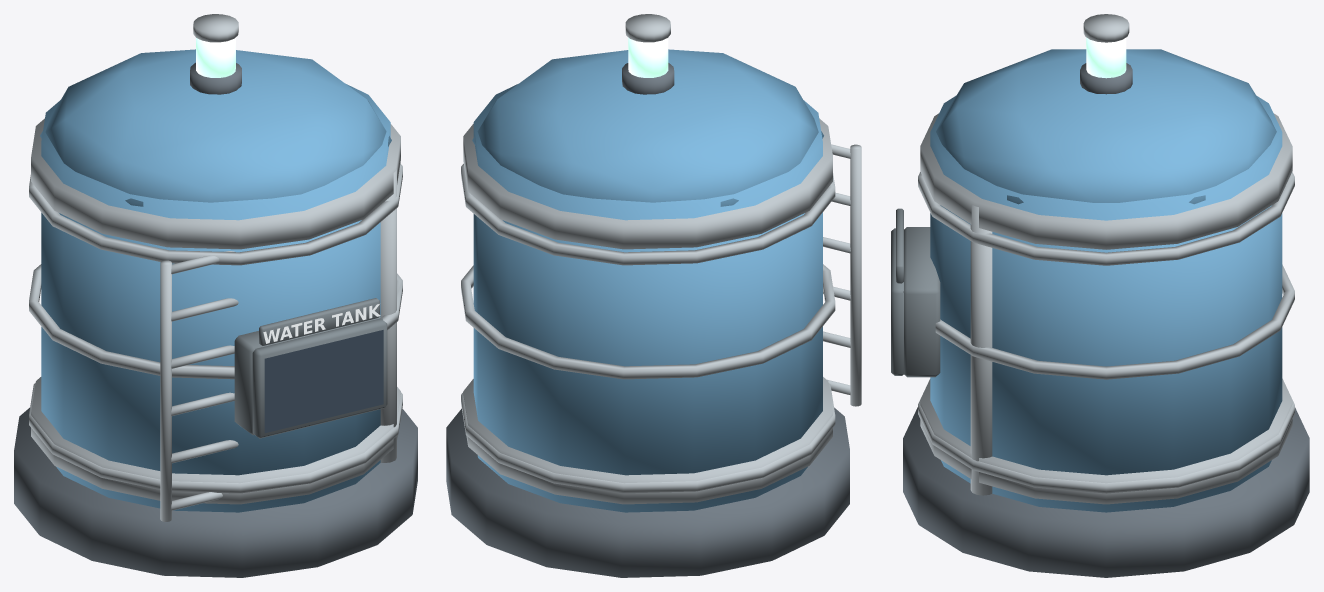
File: water_tank_standard.glb
The picture shows the model from 3 angles, left to right: view 1: azimuth 30°, elevation 25°; view 2: azimuth 150°, elevation 25°; view 3: azimuth 270°, elevation 25°; orthographic projection.
Visible parts, largest first — view 1: Tank_blue_legacy_1, Base_dark_legacy_0, Bands_steel_legacy_2, Band_steel_legacy_13, LiveViewSurface_glass, Ladder_steel_legacy_14, LiveViewSurfaceFrame_frame, Pipe_steel_legacy_7, ScreenMount_frame, TypePlate_frame, StatusLight_safe_legacy_9, Beacon_steel_legacy_10 (+2 smaller); view 2: Tank_blue_legacy_1, Base_dark_legacy_0, Bands_steel_legacy_2, Band_steel_legacy_13, Ladder_steel_legacy_14, StatusLight_safe_legacy_9, Beacon_steel_legacy_10, Beacon_dark_legacy_8; view 3: Tank_blue_legacy_1, Base_dark_legacy_0, Bands_steel_legacy_2, Band_steel_legacy_13, Pipe_steel_legacy_7, ScreenMount_frame, LiveViewSurfaceFrame_frame, StatusLight_safe_legacy_9, Beacon_steel_legacy_10, Beacon_dark_legacy_8, TypePlate_frame.
Boxes of the visible parts, x1=… form: Tank_blue_legacy_1: x1=40, y1=49, x2=391, y2=512; Base_dark_legacy_0: x1=14, y1=407, x2=417, y2=577; Bands_steel_legacy_2: x1=31, y1=118, x2=400, y2=504; Band_steel_legacy_13: x1=29, y1=163, x2=402, y2=493; LiveViewSurface_glass: x1=264, y1=330, x2=383, y2=433; Ladder_steel_legacy_14: x1=160, y1=251, x2=238, y2=521; LiveViewSurfaceFrame_frame: x1=252, y1=318, x2=387, y2=438; Pipe_steel_legacy_7: x1=380, y1=169, x2=396, y2=462; ScreenMount_frame: x1=234, y1=316, x2=382, y2=435; TypePlate_frame: x1=259, y1=298, x2=379, y2=345; StatusLight_safe_legacy_9: x1=196, y1=37, x2=235, y2=77; Beacon_steel_legacy_10: x1=193, y1=14, x2=238, y2=42; Tank_blue_legacy_1: x1=472, y1=49, x2=823, y2=512; Base_dark_legacy_0: x1=446, y1=407, x2=849, y2=577; Bands_steel_legacy_2: x1=463, y1=118, x2=832, y2=504; Band_steel_legacy_13: x1=461, y1=164, x2=835, y2=493; Ladder_steel_legacy_14: x1=823, y1=144, x2=861, y2=406; StatusLight_safe_legacy_9: x1=628, y1=37, x2=668, y2=77; Beacon_steel_legacy_10: x1=625, y1=14, x2=670, y2=42; Beacon_dark_legacy_8: x1=622, y1=63, x2=674, y2=94; Tank_blue_legacy_1: x1=930, y1=49, x2=1282, y2=512; Base_dark_legacy_0: x1=903, y1=407, x2=1309, y2=577; Bands_steel_legacy_2: x1=920, y1=113, x2=1292, y2=504; Band_steel_legacy_13: x1=918, y1=172, x2=1294, y2=493; Pipe_steel_legacy_7: x1=970, y1=204, x2=992, y2=495; ScreenMount_frame: x1=903, y1=227, x2=940, y2=377; LiveViewSurfaceFrame_frame: x1=891, y1=228, x2=903, y2=375; StatusLight_safe_legacy_9: x1=1086, y1=37, x2=1126, y2=78; Beacon_steel_legacy_10: x1=1083, y1=14, x2=1129, y2=42; Beacon_dark_legacy_8: x1=1080, y1=63, x2=1132, y2=94; TypePlate_frame: x1=896, y1=208, x2=903, y2=283.
Size of the model in its own units: 1.78 by 2.26 by 1.84.
